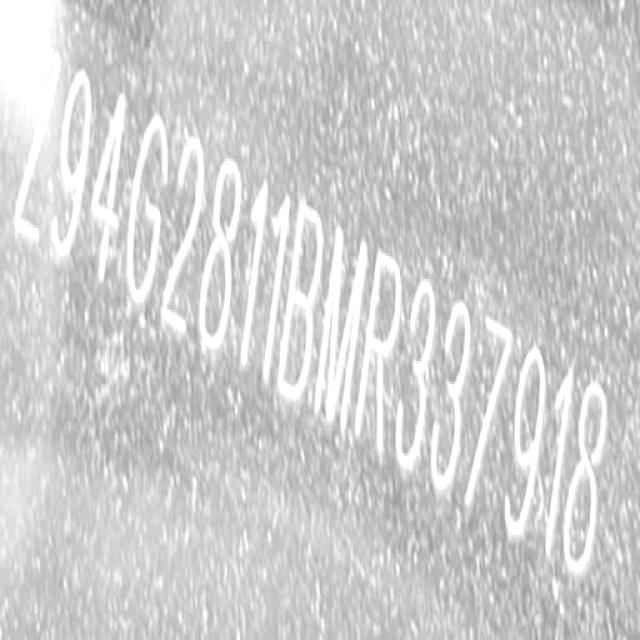1: (549, 356, 577, 565), (241, 180, 270, 378), (264, 187, 290, 386)
2: (161, 124, 208, 350)
3: (432, 281, 474, 517), (398, 259, 439, 496)
4: (87, 80, 136, 299)
7: (463, 311, 519, 521)
8: (200, 141, 248, 374), (566, 369, 610, 582)
9: (45, 67, 98, 273), (507, 336, 548, 557)
B: (277, 188, 329, 422)
G: (126, 111, 169, 310)
M: (312, 206, 368, 451)
R: (356, 234, 407, 475)
Z: (14, 38, 64, 249)
